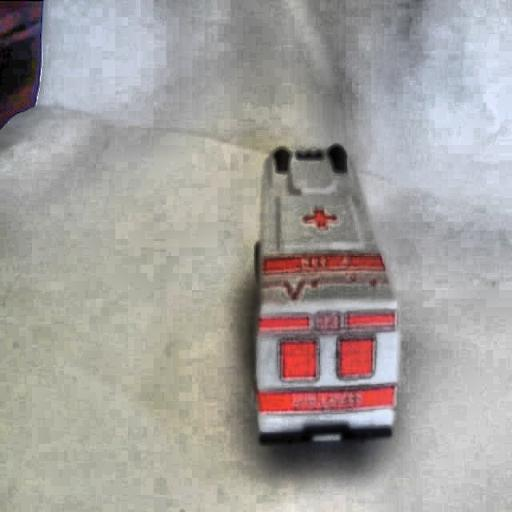ambulance: (253, 144, 398, 445)
